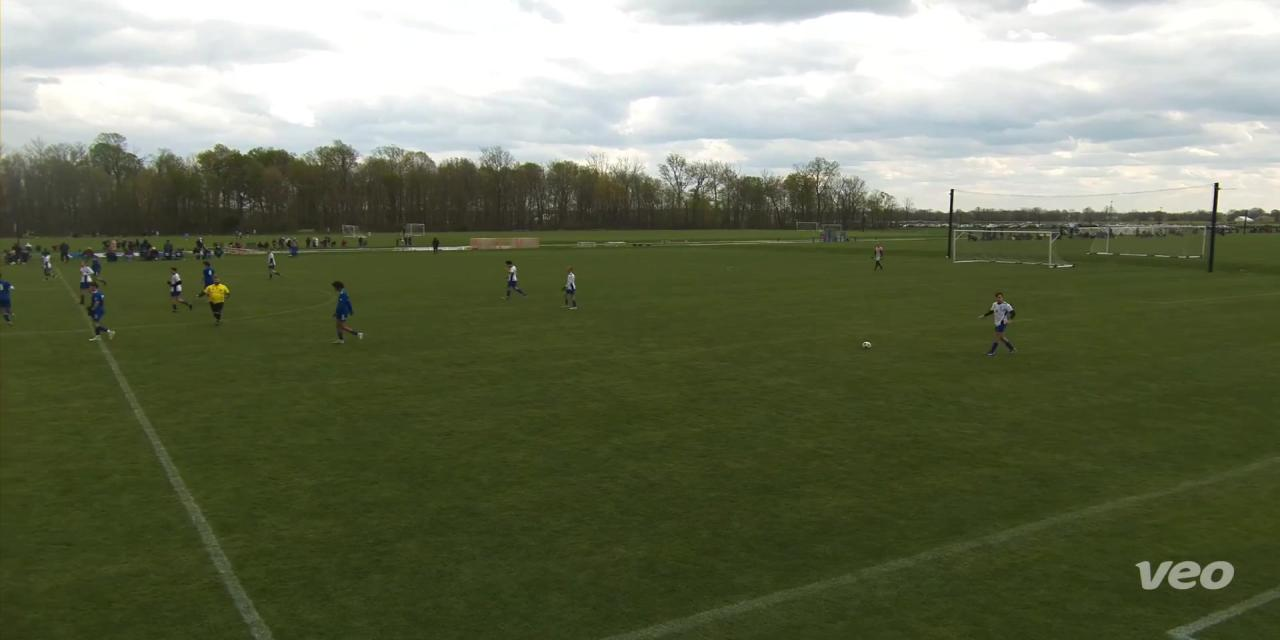goal: (948, 224, 1078, 266)
sports ball: (859, 333, 880, 357)
